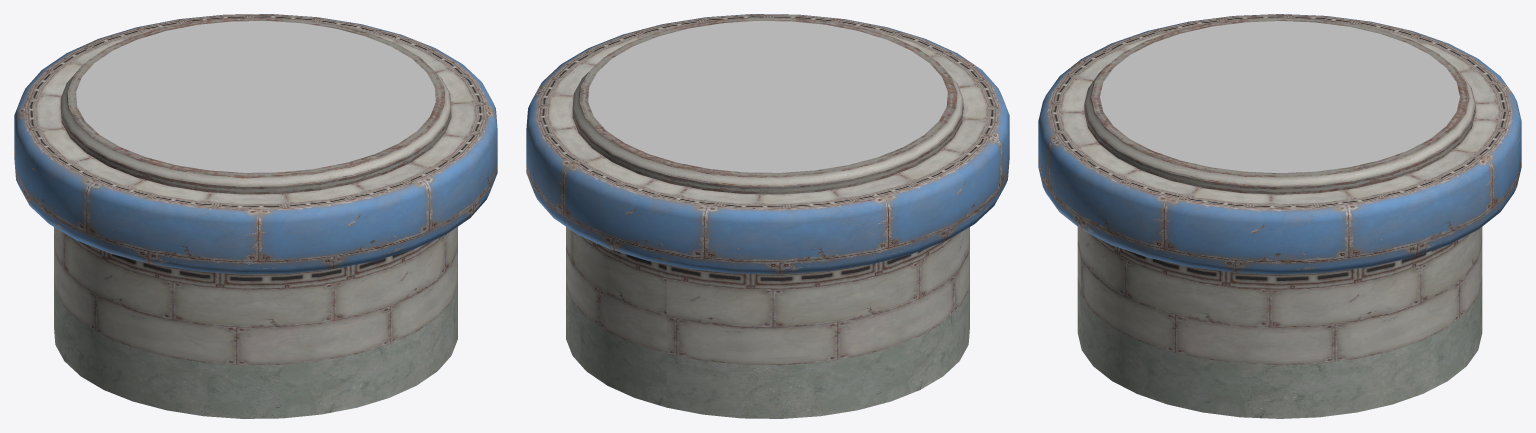
File: Level_01_Backdrop_Building_C.fbx
3 renders of one model, left to right at view 1: azimuth 30°, elevation 25°; view 2: azimuth 150°, elevation 25°; view 3: azimuth 270°, elevation 25°, orthographic.
Parts seen in each view (by area): view 1: Geometry_Level_01_Backdrop_Building_C; view 2: Geometry_Level_01_Backdrop_Building_C; view 3: Geometry_Level_01_Backdrop_Building_C.
Part boxes in pixels (x1,y1,x2,y2): Geometry_Level_01_Backdrop_Building_C: (14, 14, 497, 418); Geometry_Level_01_Backdrop_Building_C: (526, 14, 1009, 418); Geometry_Level_01_Backdrop_Building_C: (1038, 14, 1521, 418).
Bounding box in the file's own units: 6268 × 3382 × 6268.
